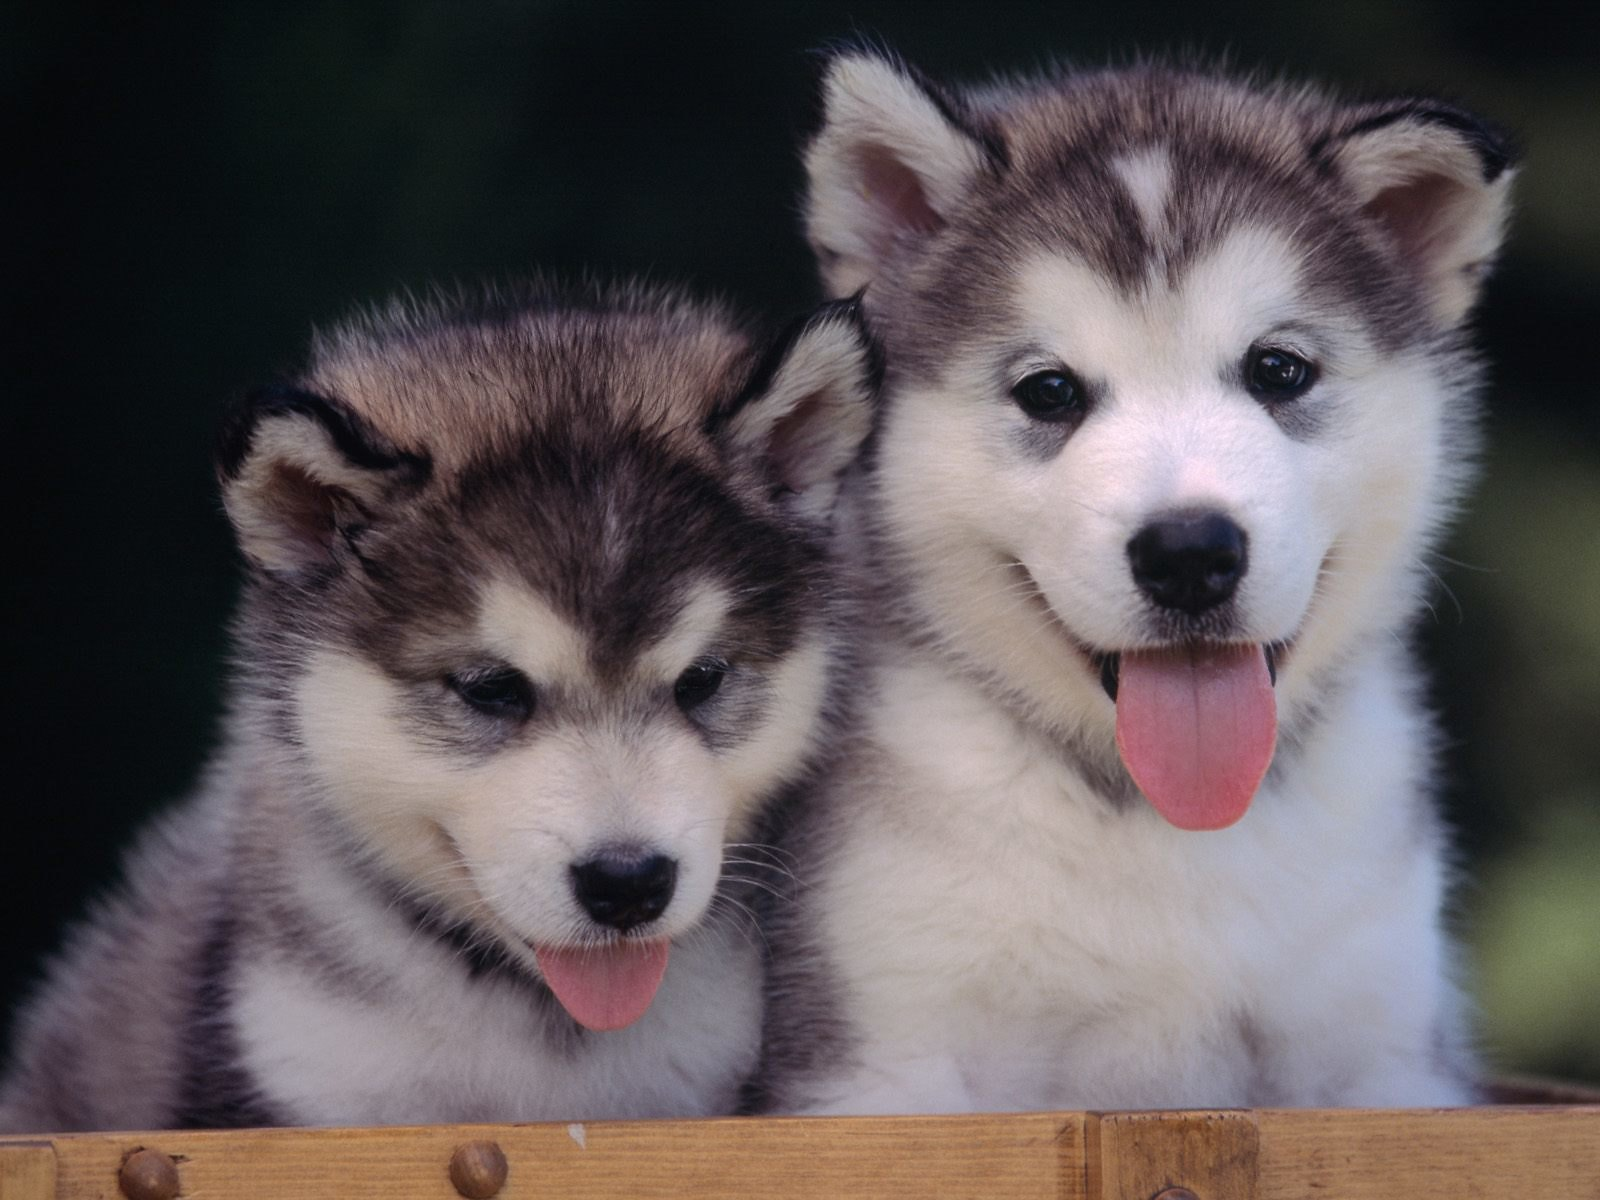dog: (791, 66, 1540, 1114), (176, 266, 892, 1141)
